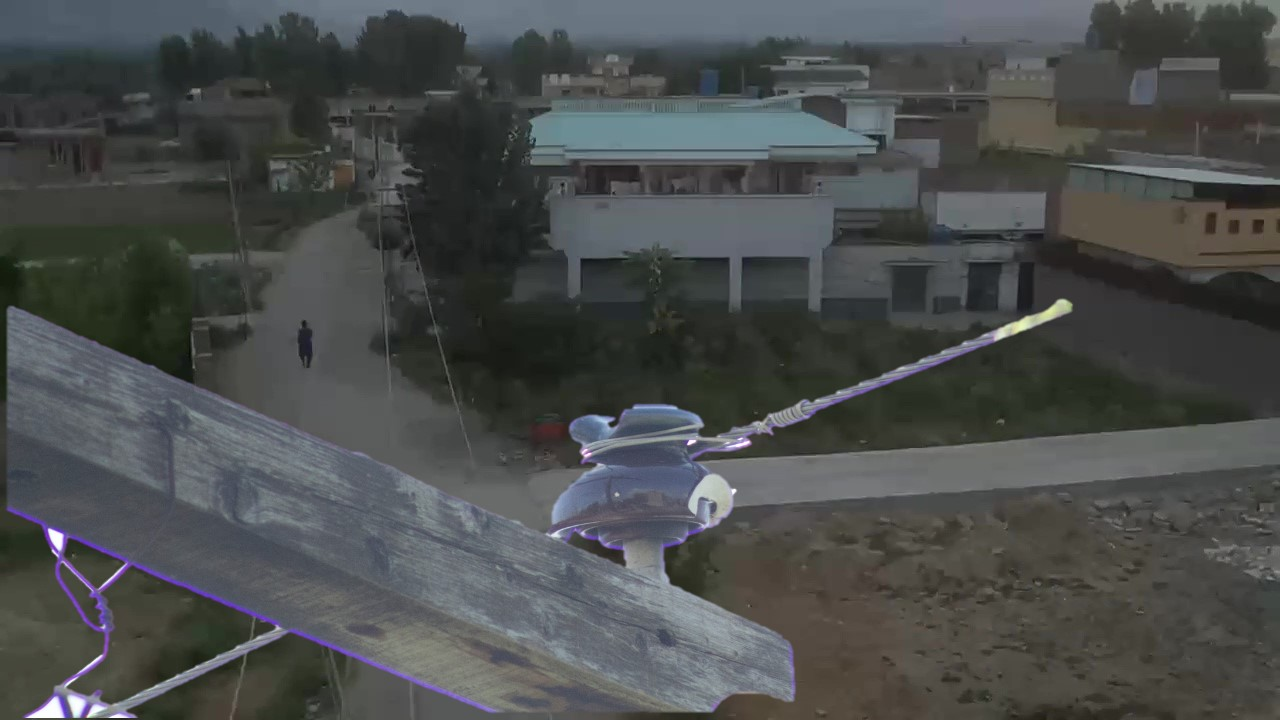insulator_pin: (540, 396, 751, 561)
